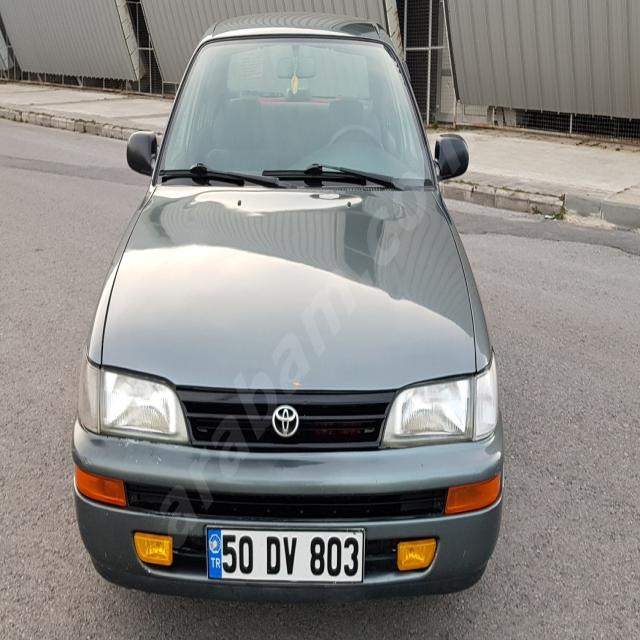license_plate: (206, 527, 364, 583)
